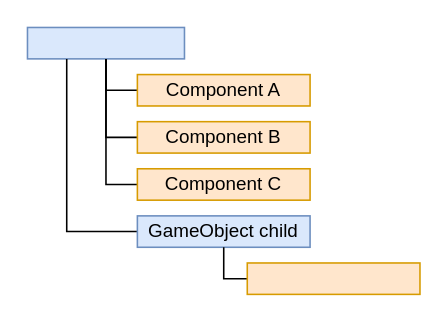
Some shapes in this 447 by 322 pixel diagram are drawn without their labels. The shapes that lost their labels are listed below. From the top down, each one's centre as x and y in pixels, then its label:
the point at 105,42: GameObject
the point at 333,277: Component D
